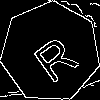R: (25, 27, 81, 85)
